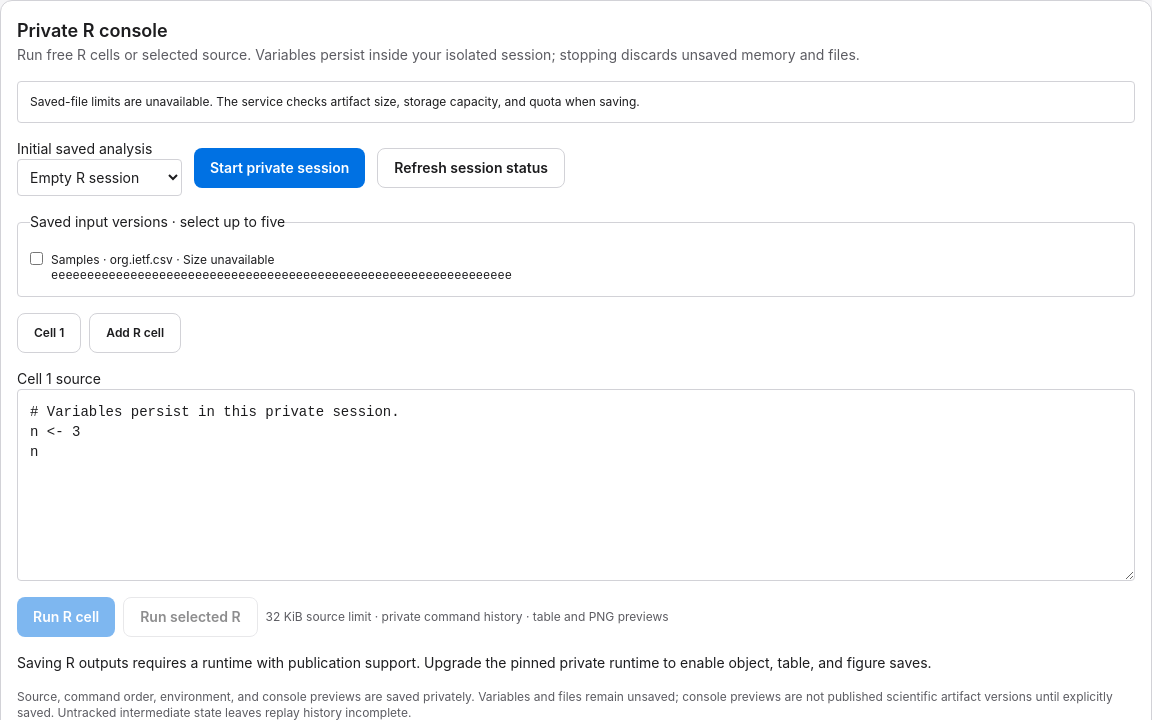
it: sends exact selected input refs and displays researcher-friendly saved analysis names
Click the checkbox named "Use Samples": (36,258) [30,252,43,265]
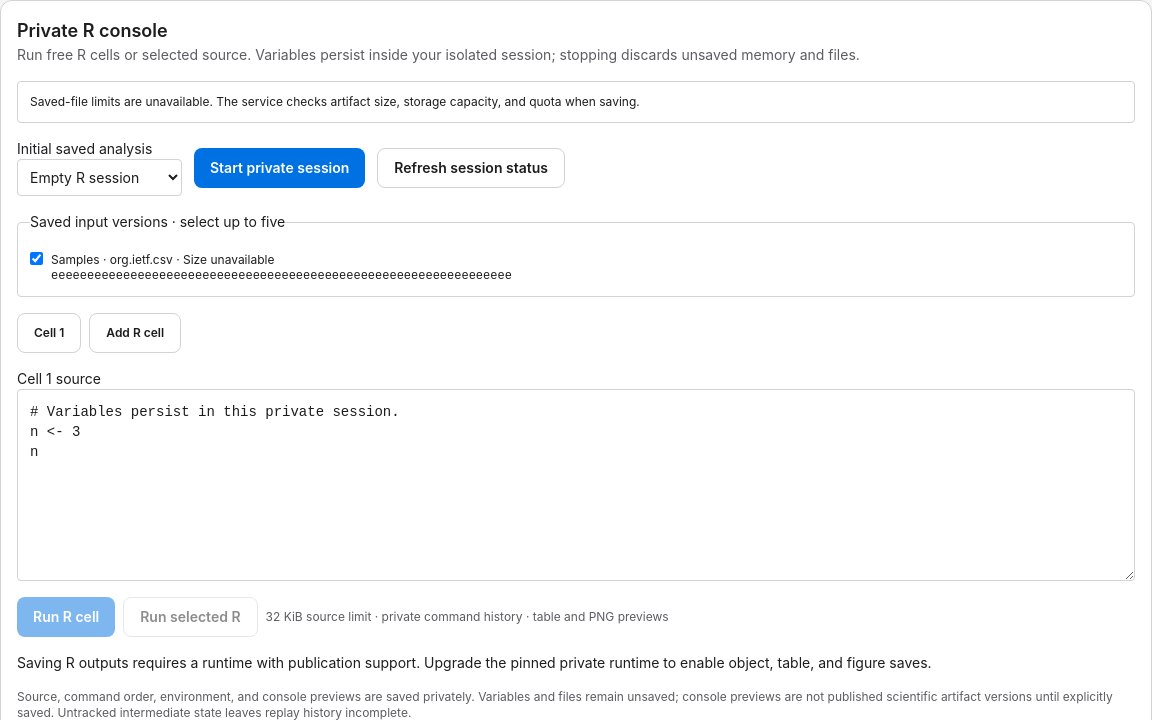
Select "Saved treated cells" in the dropdown labelled "Initial saved analysis": (100,178) [17,159,182,196]
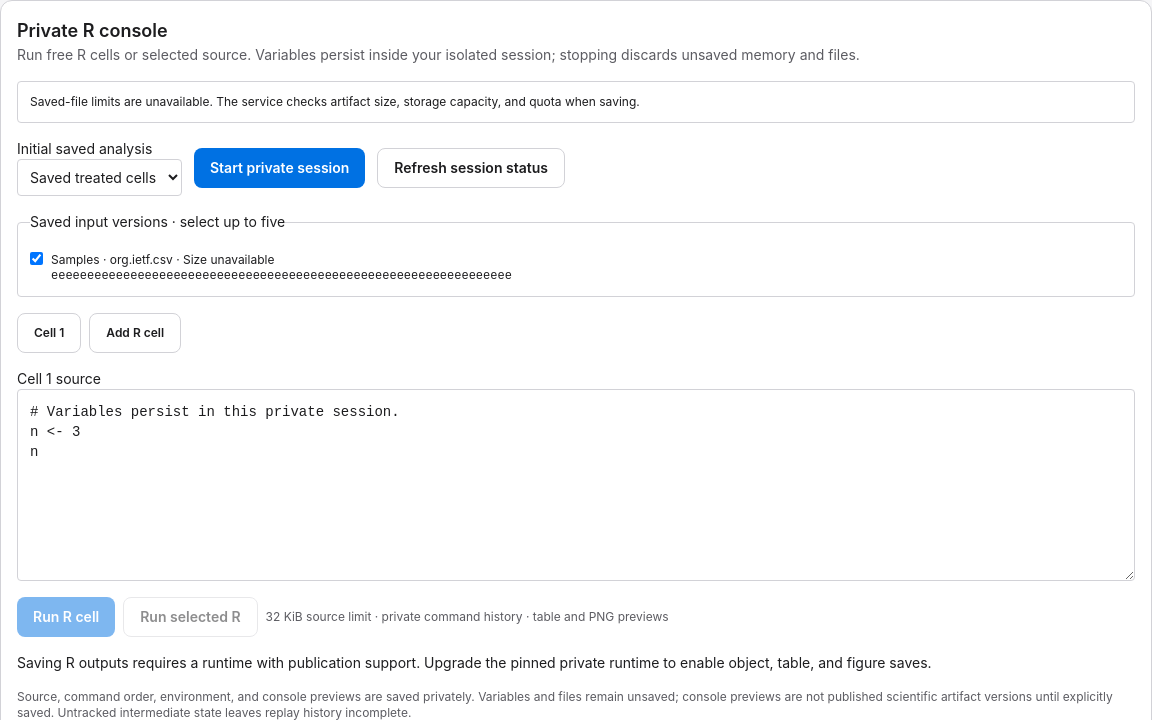
Click the button "Start private session": (280,168) [194,148,365,188]
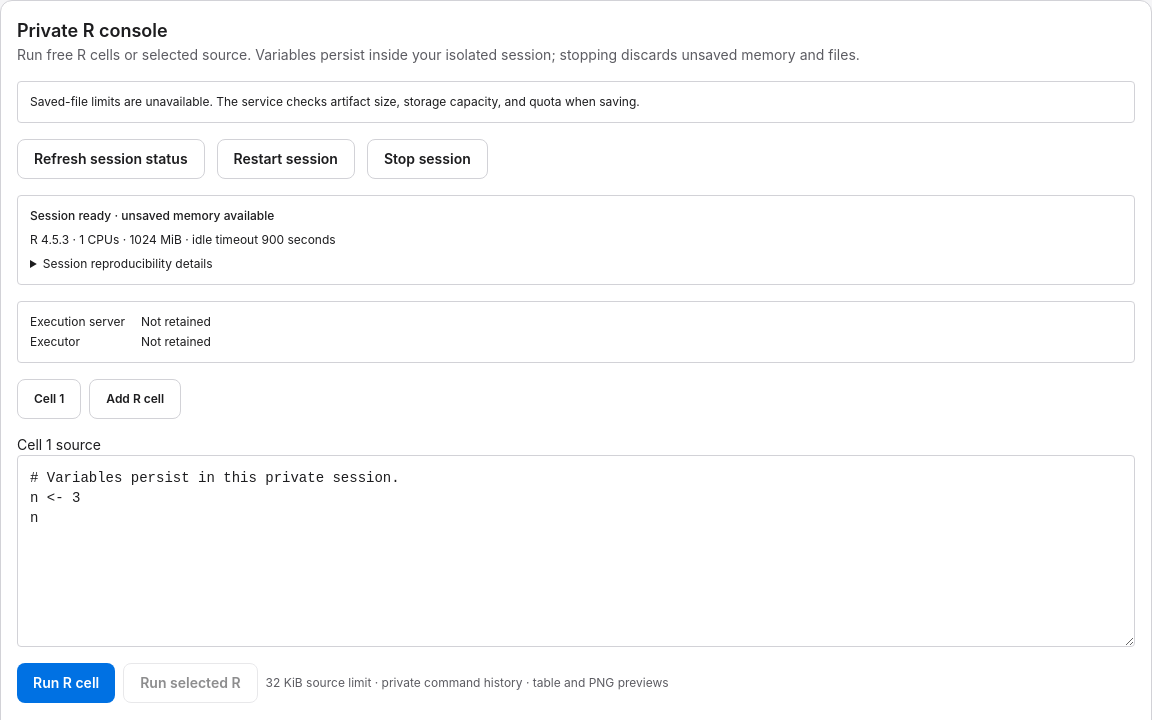
Expected: the text "Session ready · unsaved memory available" is shown, [30,208,274,223]
